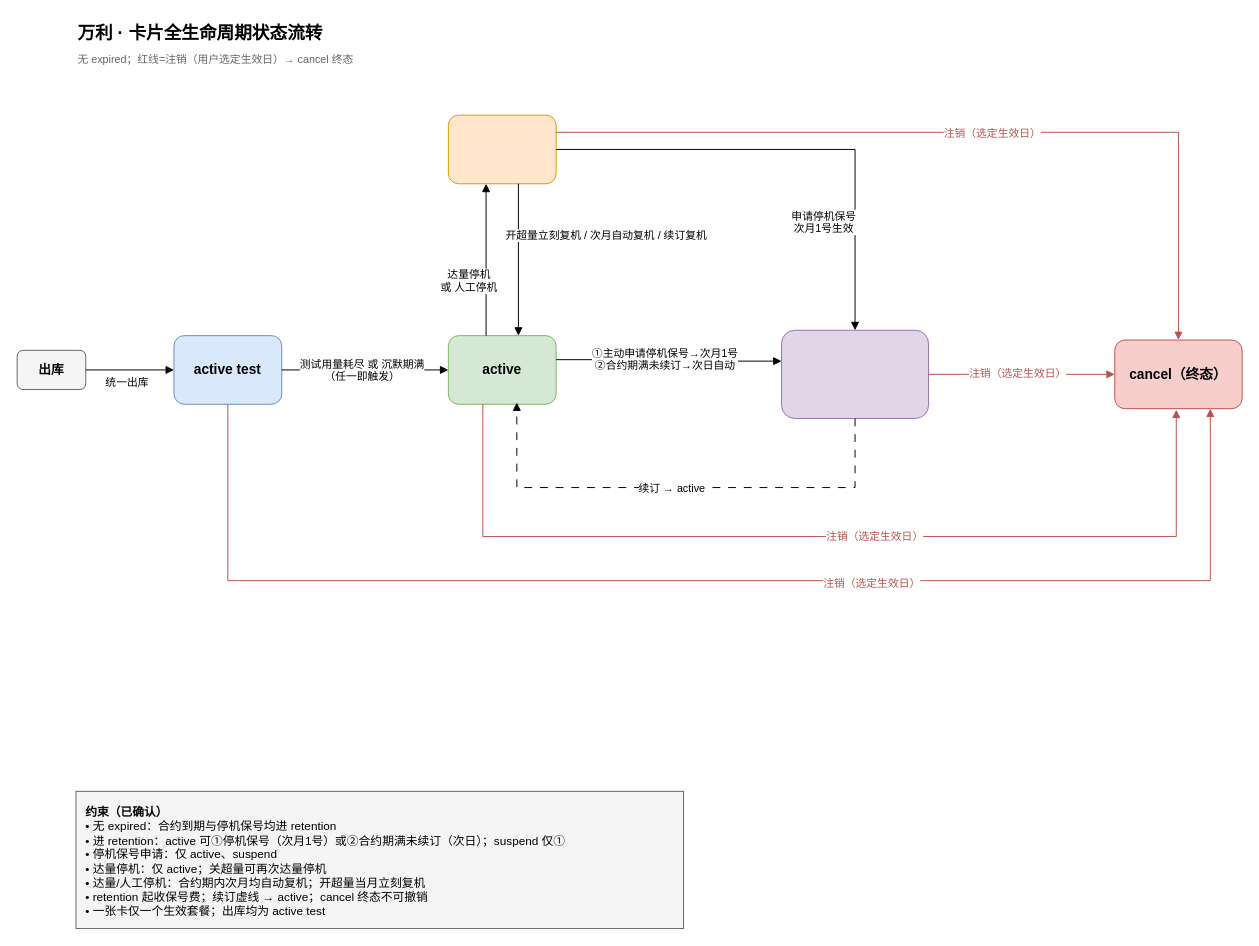
Some shapes in this 1259 by 946 pixel diagram are drawn without their labels. Here are the shapes that lost their labels. From the top down, the box of each, then its label:
(447, 114, 556, 184): suspend
(781, 329, 929, 418): retention （合约到期 / 停机保号）
